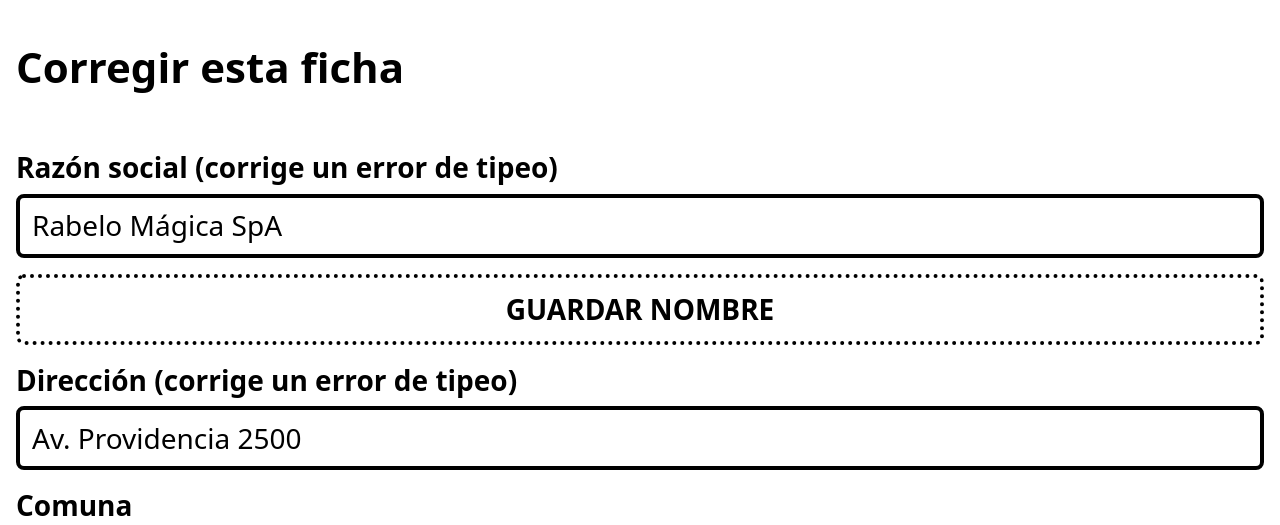
it: detalle del local › chofer con permiso de editor › puede abrir la ficha, quitar la foto y corregir la razón social; un chofer común no entra
(page scrolled)
Replace the text in the field labelled "Razón social (corrige un error de tipeo)" with "Rabelo Magica SpA" at {"x": 640, "y": 226}, box left=16, top=194, right=1264, bottom=258
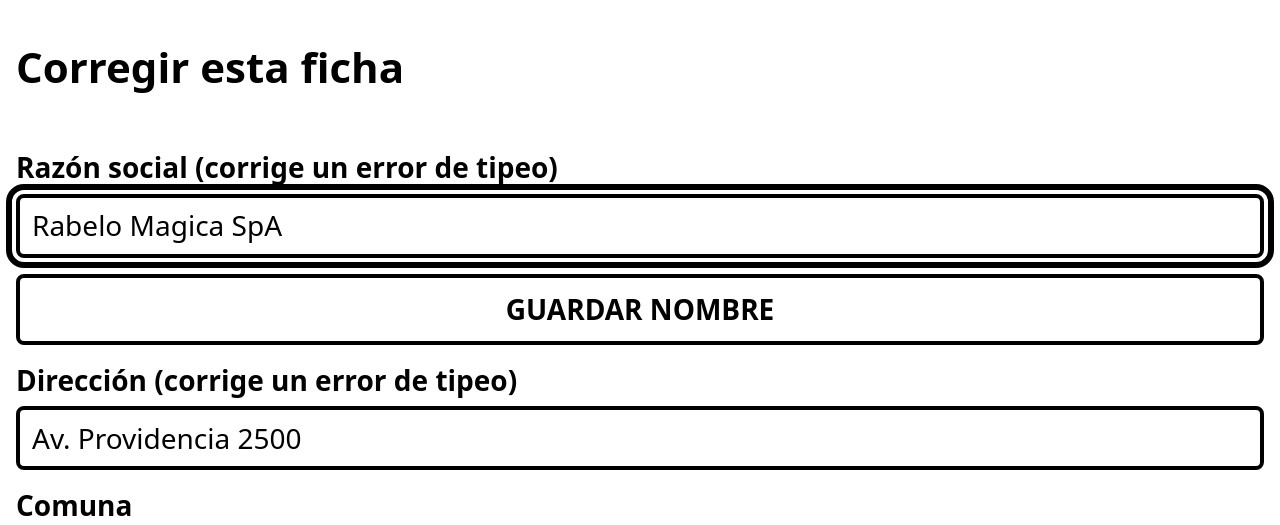
Click the button "GUARDAR NOMBRE" at {"x": 640, "y": 309}, box left=16, top=274, right=1264, bottom=345
(page scrolled)
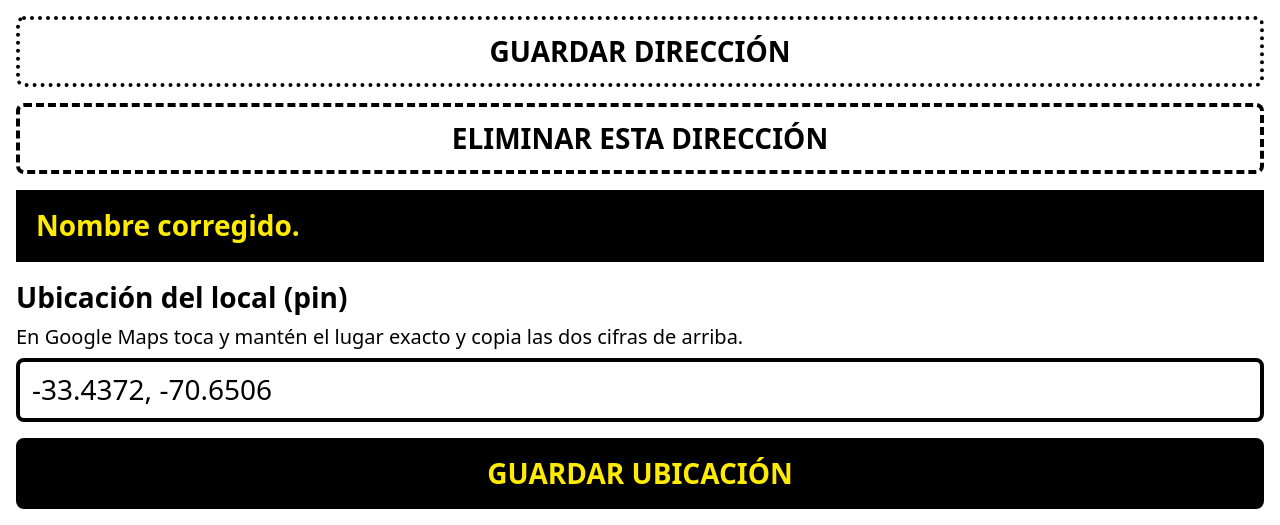
Result: the text "Nombre corregido." is shown at left=16, top=190, right=1264, bottom=262
